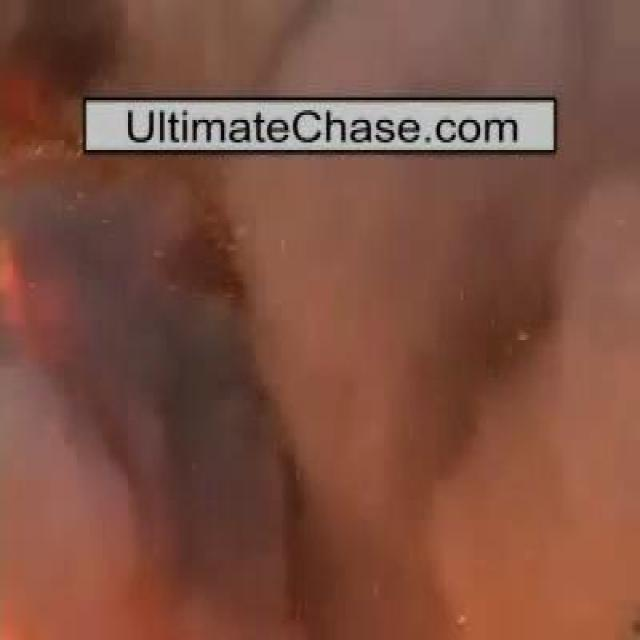Smoke: (56, 165, 544, 585)
